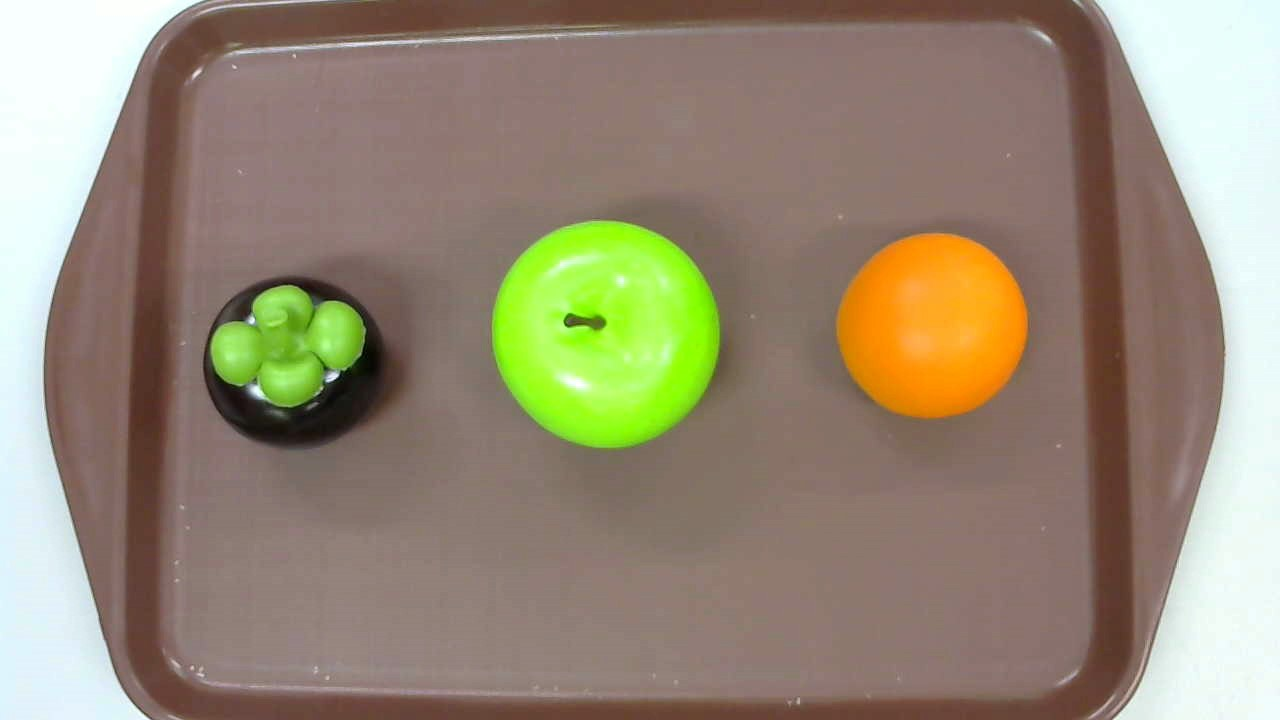bun: (837, 232, 1026, 417)
green apple: (493, 220, 721, 451)
mangosteen: (203, 275, 389, 450)
